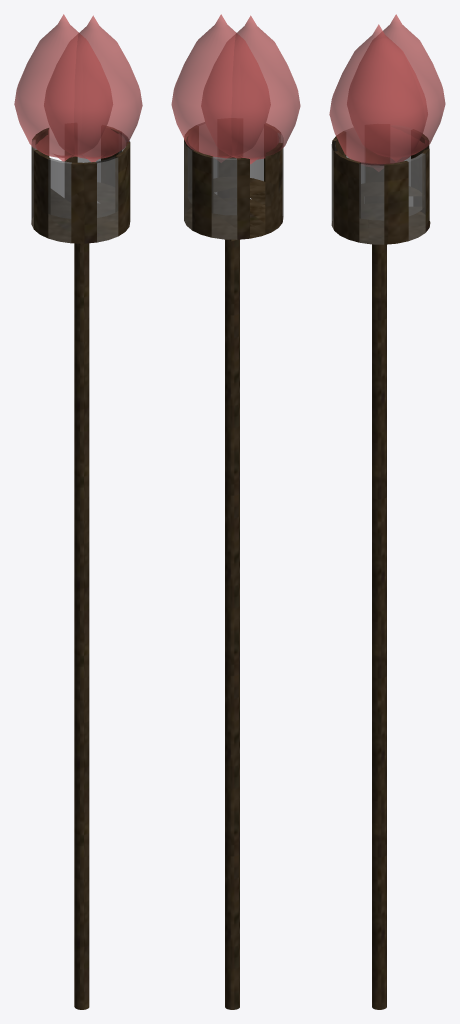
Rendered from MEŞALE.fbx.
3 renders of one model, left to right at view 1: azimuth 30°, elevation 25°; view 2: azimuth 210°, elevation 25°; view 3: azimuth 270°, elevation 25°, orthographic.
Visible parts, largest first — view 1: Model, Group1; view 2: Model, Group1; view 3: Model, Group1.
Part boxes in pixels (x1,y1,x2,y2): Model: (31,126,130,1009); Group1: (14,14,142,162); Model: (184,122,283,1009); Group1: (171,14,300,164); Model: (331,128,430,1009); Group1: (329,14,445,171).
Size of the model in its own units: 4.95 by 44.03 by 4.69.
